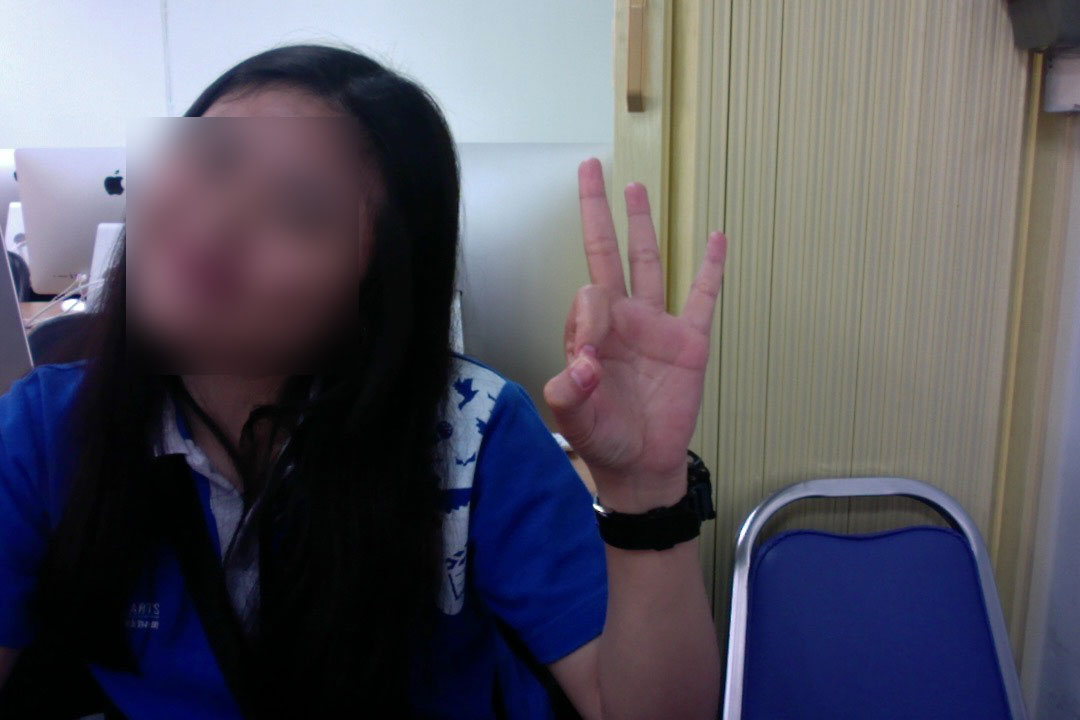for: (519, 143, 766, 536)
